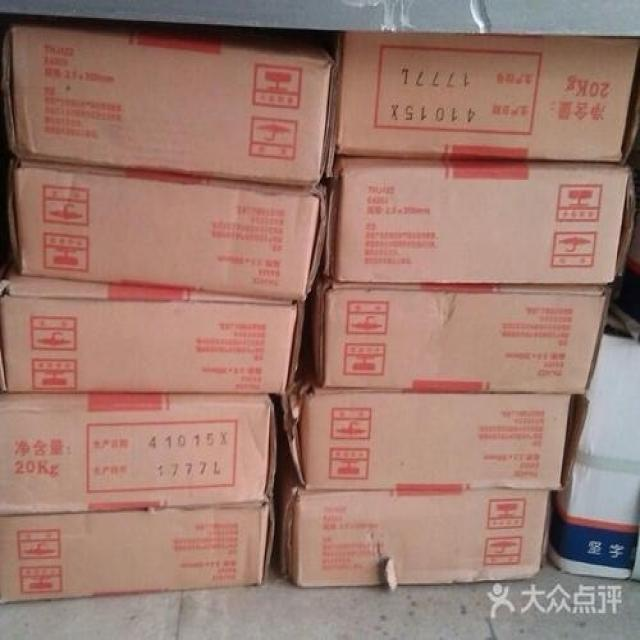box: (5, 15, 335, 189), (6, 151, 329, 300), (1, 256, 302, 394), (285, 358, 591, 490), (279, 441, 550, 588), (330, 36, 639, 163), (326, 156, 625, 285), (306, 279, 616, 393), (1, 394, 284, 516), (1, 502, 282, 601)
